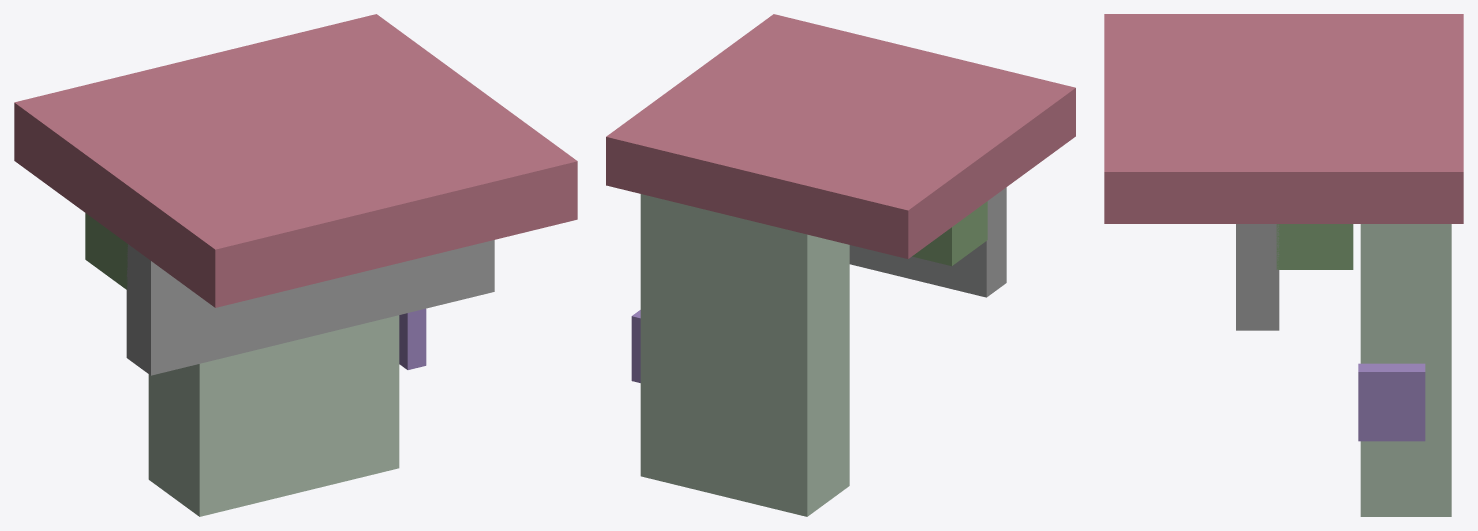
Rendered from 239512_pred.glb.
3 renders of one model, left to right at view 1: azimuth 30°, elevation 25°; view 2: azimuth 150°, elevation 25°; view 3: azimuth 270°, elevation 25°, orthographic. The views are drawn at different scales.
Visible parts, largest first — view 1: world; view 2: world; view 3: world.
Part boxes in pixels (left/top/right/bottom): world: left=14, top=14, right=577, bottom=516; world: left=606, top=14, right=1075, bottom=516; world: left=1104, top=14, right=1463, bottom=516.
Bounding box in the file's own units: 7.8 × 8.3 × 7.5.
